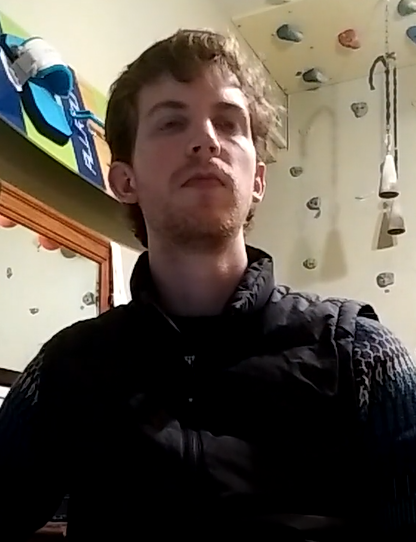Half Asleep: (145, 95, 252, 142)
